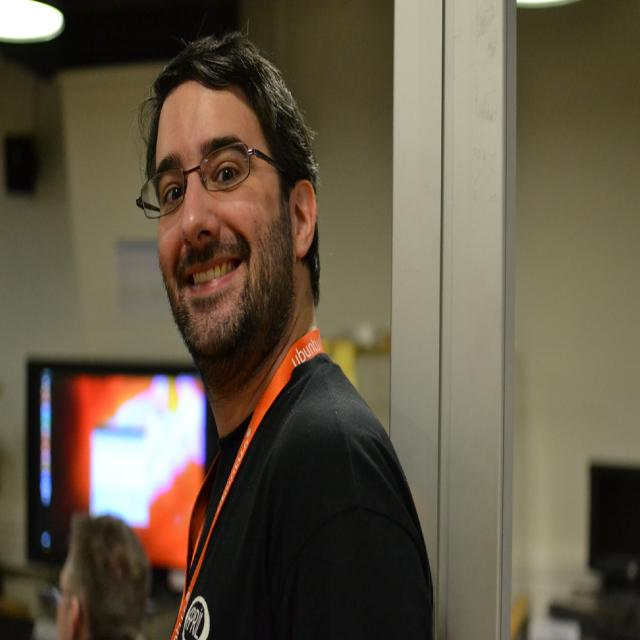Glasses: (134, 132, 286, 217)
